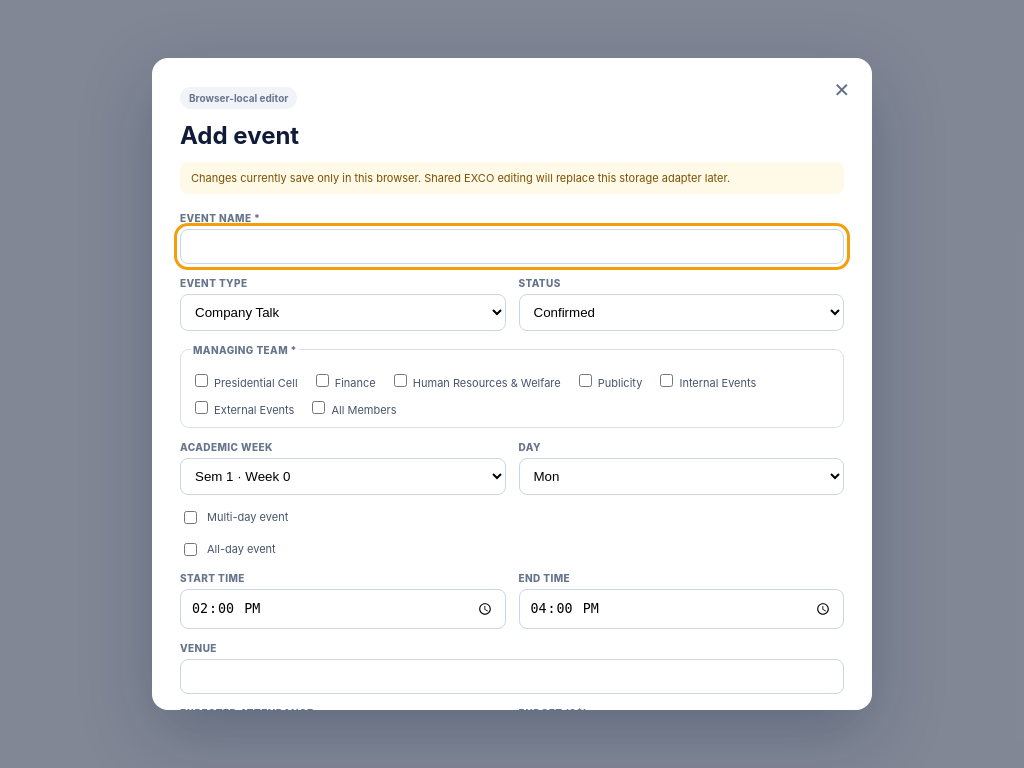
it: EventEditor › rejects a multi-day event that ends before it starts
The image size is (1024, 768).
Type "Invalid range" into the field labelled "Event name *" at x=512, y=246, box top-left (180, 229), bottom-right (844, 264)
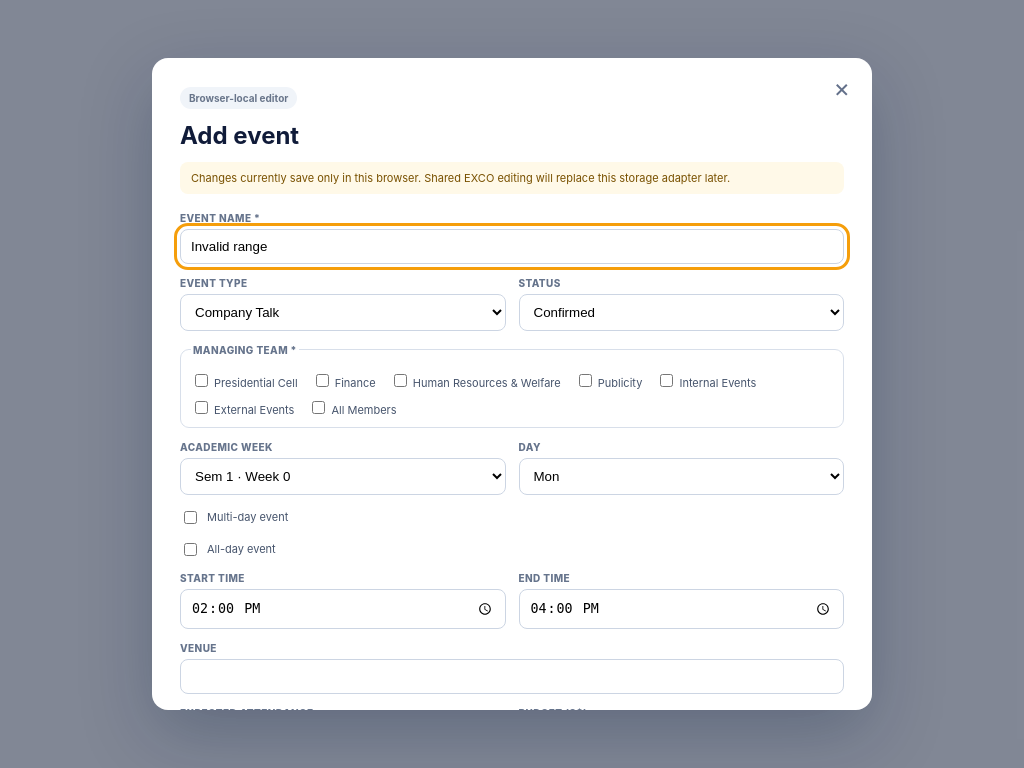
Click the checkbox labelled "All Members" at x=319, y=407, box top-left (312, 401), bottom-right (325, 414)
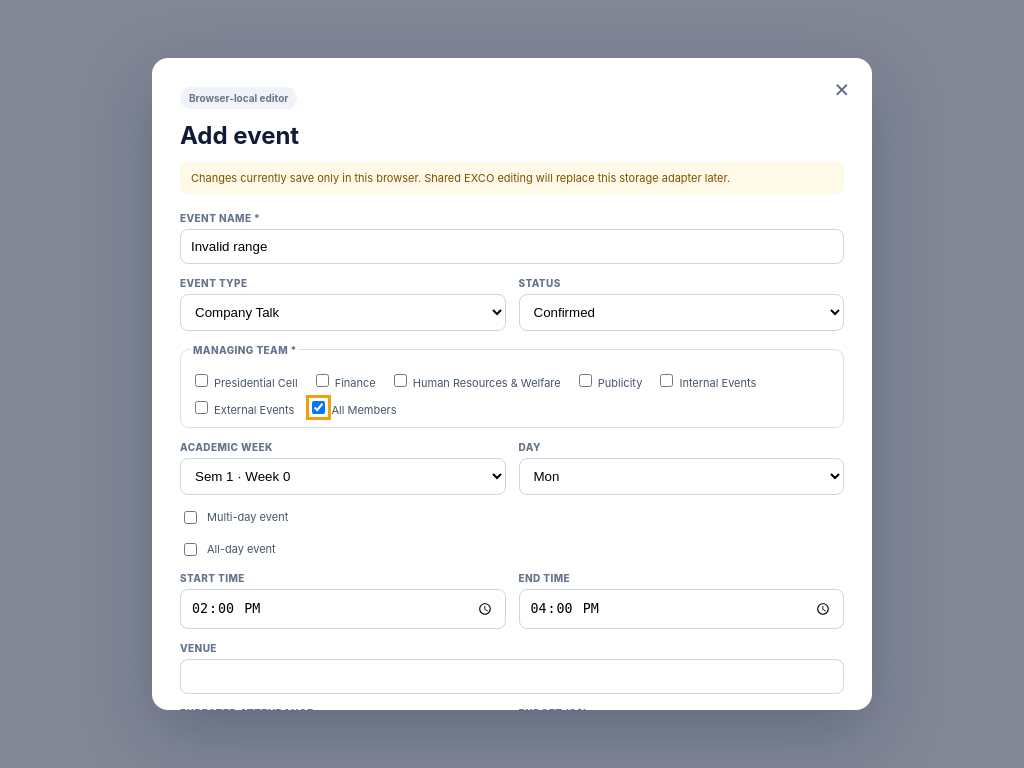
Click the checkbox labelled "Multi-day event" at x=190, y=517, box top-left (184, 511), bottom-right (197, 524)
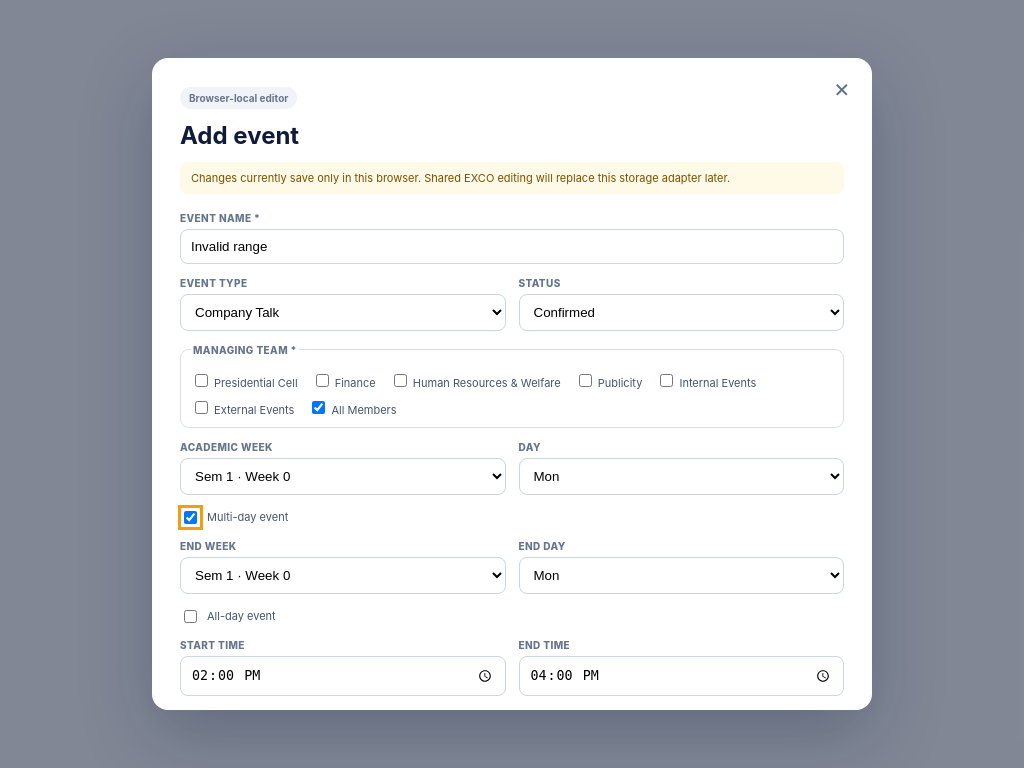
Select "Sem 1 · Week 2" in the dropdown labelled "Academic week" at x=343, y=476, box top-left (180, 458), bottom-right (506, 495)
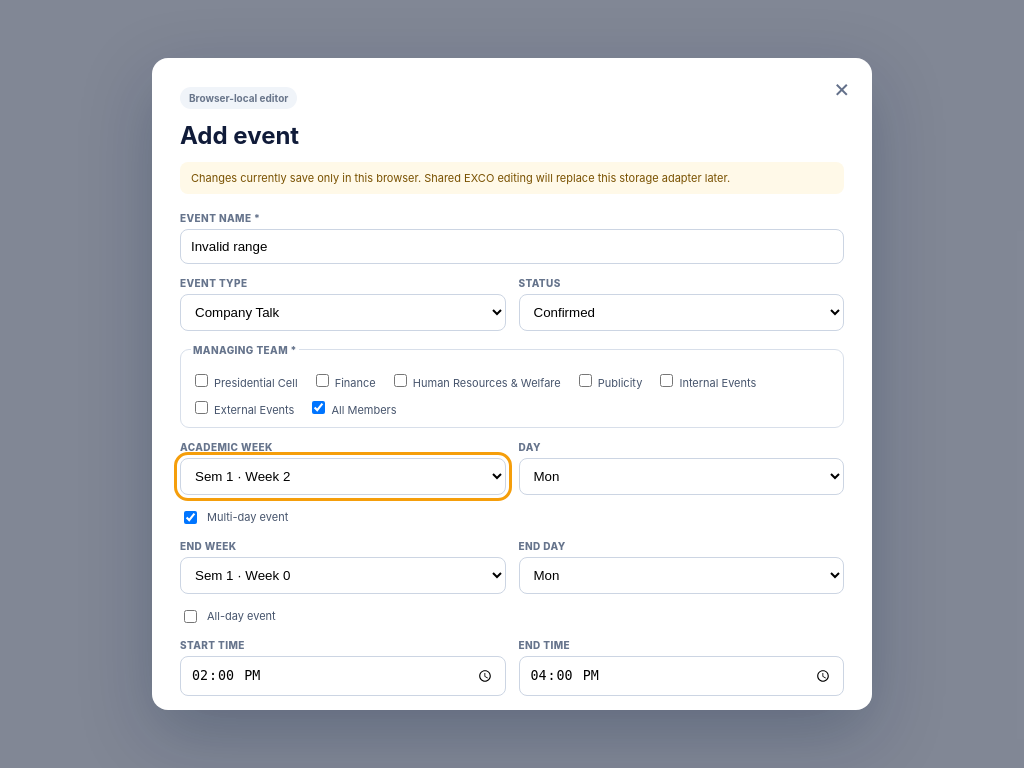
Select "Sem 1 · Week 1" in the dropdown labelled "End week" at x=343, y=575, box top-left (180, 557), bottom-right (506, 594)
(page scrolled)
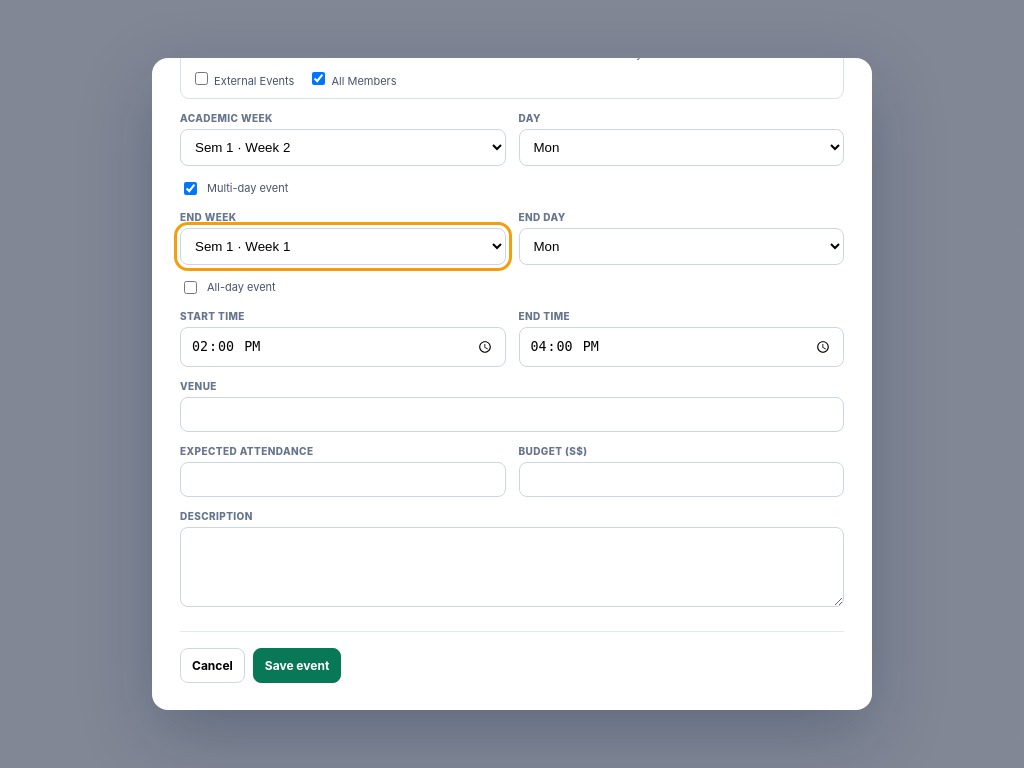
Click the button "Save event" at x=297, y=665, box top-left (253, 648), bottom-right (341, 683)
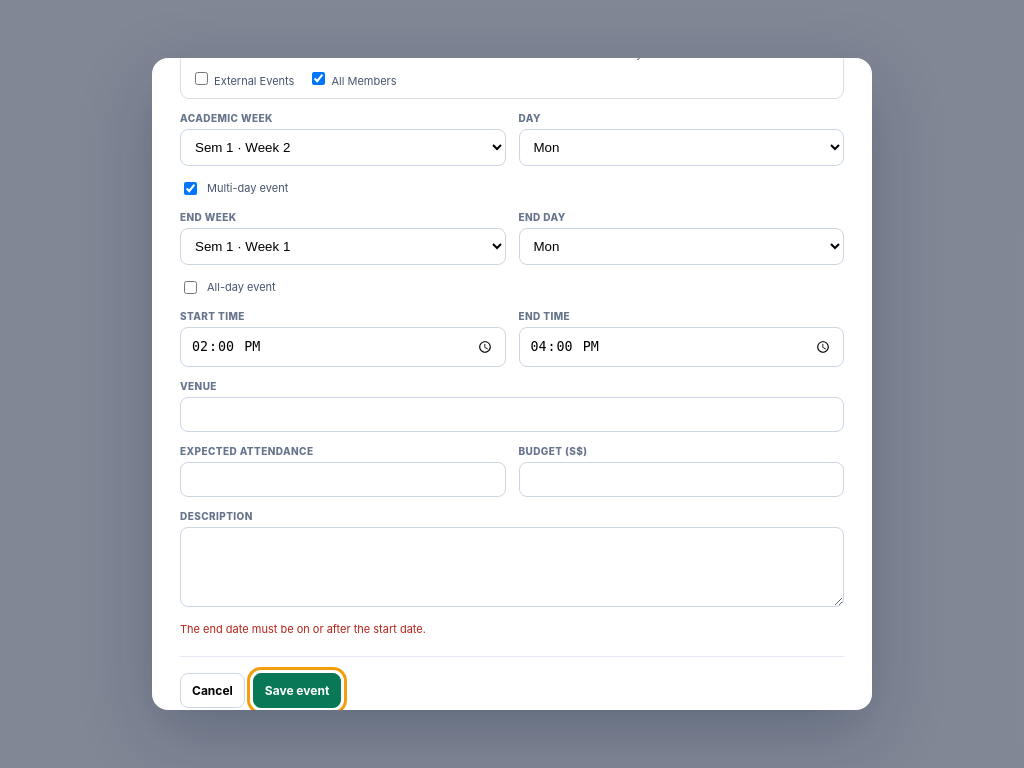
Result: the text "The end date must be on or after the start date." is shown at top-left (180, 622), bottom-right (426, 636)
